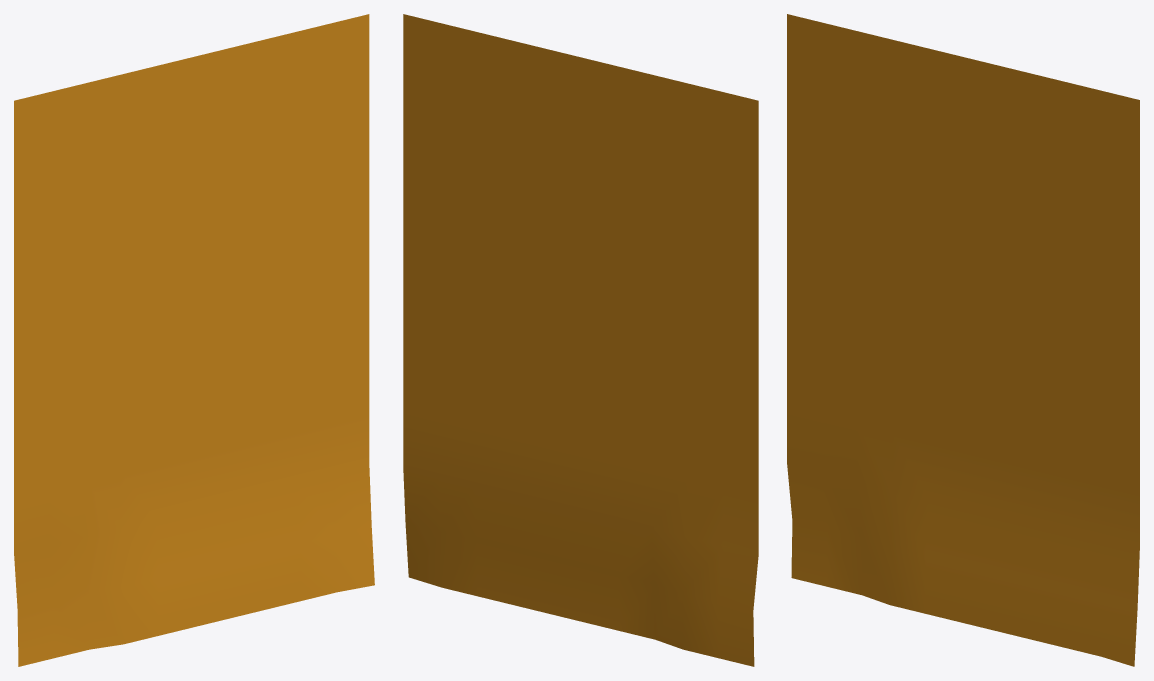
The model's file is Poster04_mesh.fbx.
3 renders of one model, left to right at view 1: azimuth 30°, elevation 25°; view 2: azimuth 150°, elevation 25°; view 3: azimuth 330°, elevation 25°, orthographic.
Parts seen in each view (by area): view 1: Poster04_mesh; view 2: Poster04_mesh; view 3: Poster04_mesh.
Boxes of the visible parts, x1=… form: Poster04_mesh: x1=14, y1=14, x2=374, y2=666; Poster04_mesh: x1=403, y1=14, x2=758, y2=666; Poster04_mesh: x1=787, y1=14, x2=1139, y2=666.
Bounding box in the file's own units: 398 × 607 × 12.3.
